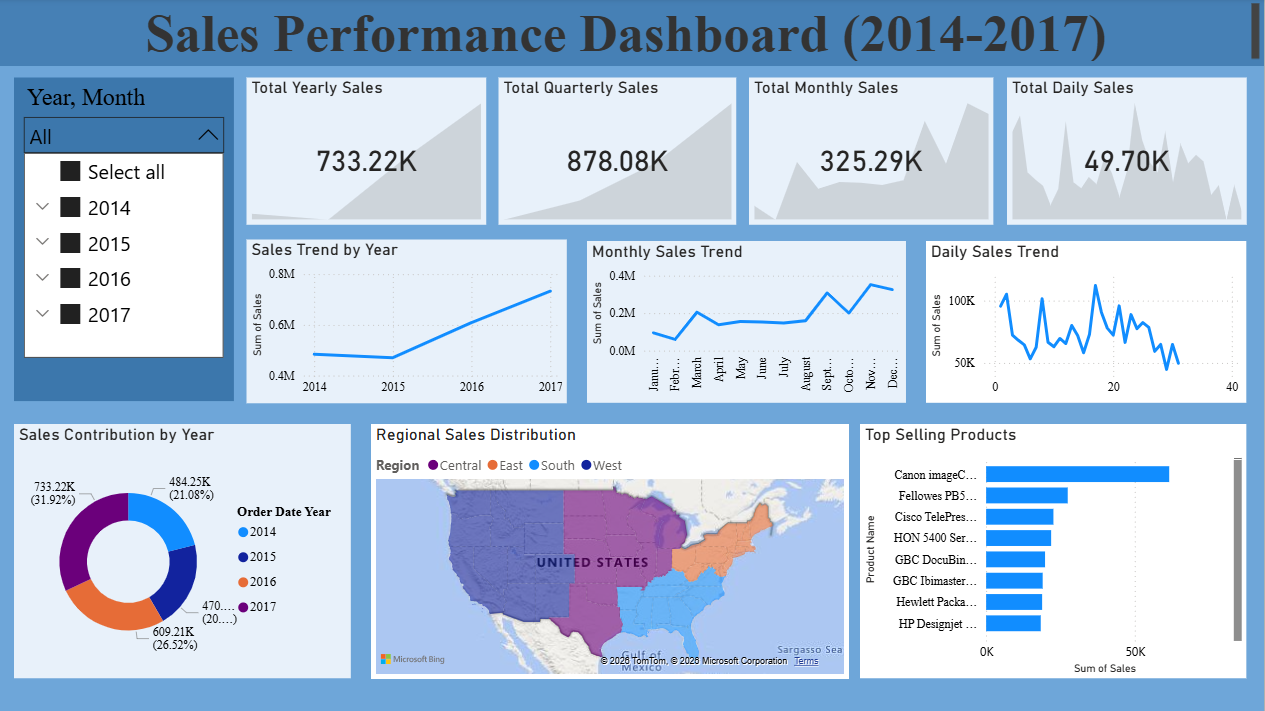

What the dashboard file says about the page in this screenshot:
{"tool":"powerbi","page":{"name":"Page 1","canvas":[1280,720],"ordinal":0},"visuals":[{"type":"textbox","box":[0,0,1280,68.3],"z":0},{"type":"slicer","fields":{"Values":["Data.Order Date.Variation.Date Hierarchy.Year","Data.Order Date.Variation.Date Hierarchy.Month"]},"box":[18.3,80,221.7,326.7],"z":1000},{"type":"lineChart","title":"Sales Trend by Year","fields":{"Y":["Sum(Data.Sales)"],"Category":["Data.Order Date.Variation.Date Hierarchy.Year"]},"box":[253.3,243.9,323.3,165],"z":2000},{"type":"lineChart","title":"Monthly Sales Trend","fields":{"Y":["Sum(Data.Sales)"],"Category":["Data.Order Date.Variation.Date Hierarchy.Month"]},"box":[596.7,244.7,321.7,163.3],"z":3000},{"type":"donutChart","title":"Sales Contribution by Year","fields":{"Category":["Data.Order Date.Variation.Date Hierarchy.Year"],"Y":["Sum(Data.Sales)"]},"box":[18.3,430,340,256.7],"z":4000},{"type":"clusteredBarChart","title":"Top Selling Products","fields":{"Category":["Data.Product Name"],"Y":["Sum(Data.Sales)"]},"box":[871.7,430,390,256.7],"z":5000},{"type":"filledMap","title":"Regional Sales Distribution","fields":{"Series":["Data.Region"],"Category":["Data.State"]},"box":[378.3,430,481.7,256.7],"z":6000},{"type":"lineChart","title":"Daily Sales Trend","fields":{"Y":["Sum(Data.Sales)"],"Category":["Data.Order Date.Variation.Date Hierarchy.Day"]},"box":[938.3,244.7,323.3,163.3],"z":7000},{"type":"kpi","title":"Total Yearly Sales","fields":{"Indicator":["Sum(Data.Sales)"],"TrendLine":["Data.Order Date.Variation.Date Hierarchy.Year"]},"box":[253.3,80,241.7,148.3],"z":8000},{"type":"kpi","title":"Total Quarterly Sales","fields":{"Indicator":["Sum(Data.Sales)"],"TrendLine":["Data.Order Date.Variation.Date Hierarchy.Quarter"]},"box":[507.8,80,240,148.3],"z":9000},{"type":"kpi","title":"Total Monthly Sales","fields":{"Indicator":["Sum(Data.Sales)"],"TrendLine":["Data.Order Date.Variation.Date Hierarchy.Month"]},"box":[760.6,80,246.7,148.3],"z":10000},{"type":"kpi","title":"Total Daily Sales","fields":{"Indicator":["Sum(Data.Sales)"],"TrendLine":["Data.Order Date.Variation.Date Hierarchy.Day"]},"box":[1020,80,241.7,148.3],"z":11000}]}

Visuals, with their boxes in screenshot pixels (x1, y1, x2, y2), scaled from the page's 1280x720 canvas onto the 1265x711 screenshot:
textbox: bbox=[0, 0, 1264, 67]
slicer - Data.Order Date.Variation.Date Hierarchy.Year x Data.Order Date.Variation.Date Hierarchy.Month: bbox=[18, 79, 237, 402]
"Sales Trend by Year" lineChart: bbox=[250, 241, 570, 404]
"Monthly Sales Trend" lineChart: bbox=[590, 242, 908, 403]
"Sales Contribution by Year" donutChart: bbox=[18, 425, 354, 678]
"Top Selling Products" clusteredBarChart: bbox=[861, 425, 1247, 678]
"Regional Sales Distribution" filledMap: bbox=[374, 425, 850, 678]
"Daily Sales Trend" lineChart: bbox=[927, 242, 1247, 403]
"Total Yearly Sales" kpi: bbox=[250, 79, 489, 225]
"Total Quarterly Sales" kpi: bbox=[502, 79, 739, 225]
"Total Monthly Sales" kpi: bbox=[752, 79, 995, 225]
"Total Daily Sales" kpi: bbox=[1008, 79, 1247, 225]
